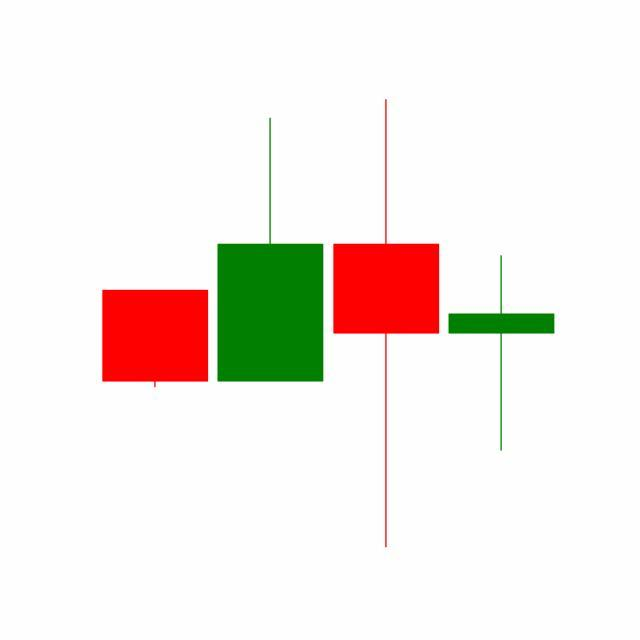Spinning Top: (444, 254, 560, 455)
